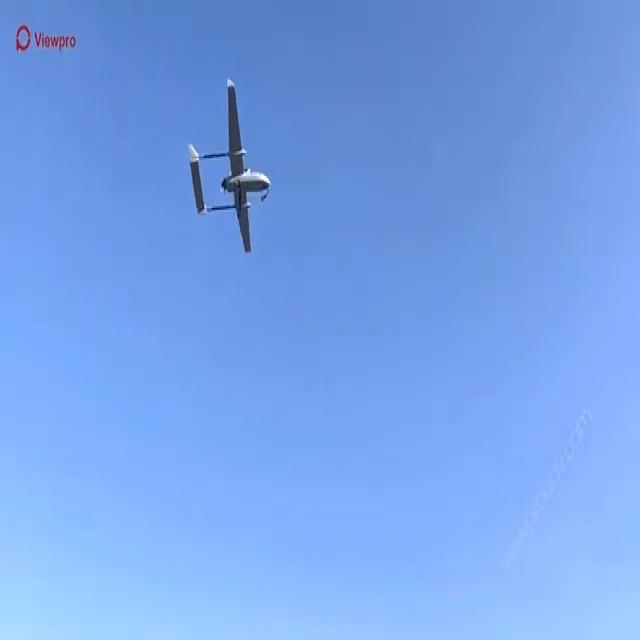drones: (175, 66, 271, 261)
